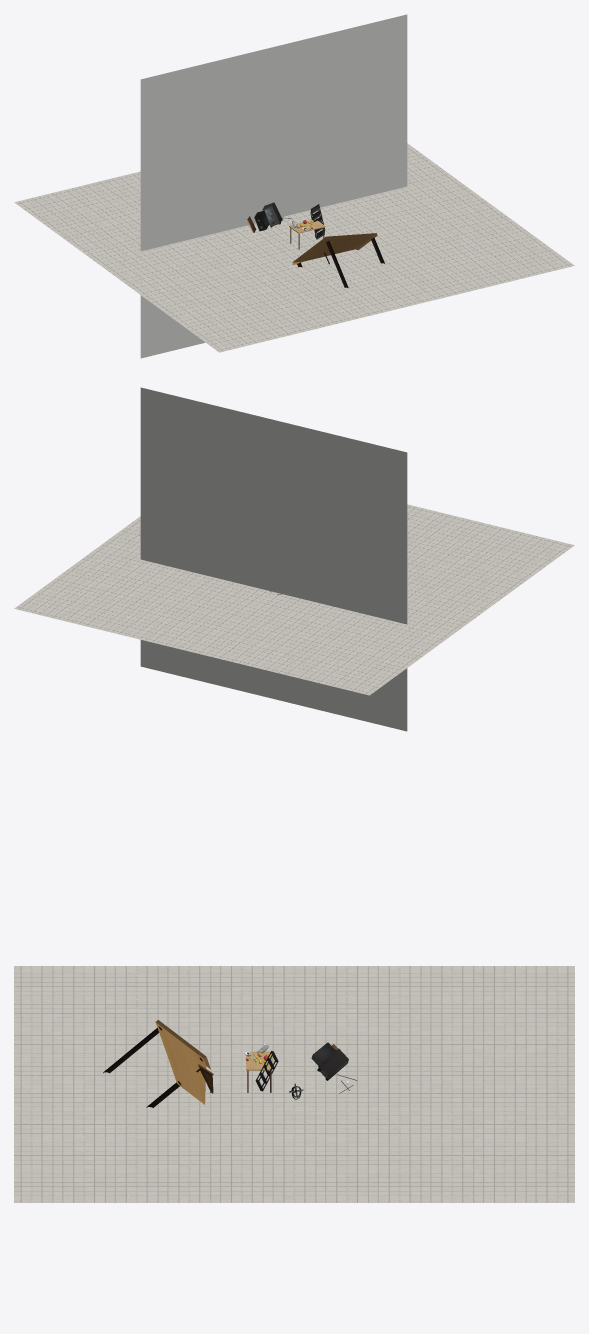
File: viga.glb
3 renders of one model, top to bottom at view 1: azimuth 30°, elevation 25°; view 2: azimuth 150°, elevation 25°; view 3: azimuth 270°, elevation 25°, orthographic. The views are drawn at different scales.
Visible parts, largest first — view 1: ENV_floor, ENV_wall_back, wooden_table_mesh; view 2: ENV_wall_back, ENV_floor; view 3: ENV_floor, wooden_table_mesh.
Part boxes in pixels (x1,y1,x2,y2): ENV_floor: [14, 143, 574, 352]; ENV_wall_back: [140, 14, 407, 358]; wooden_table_mesh: [292, 233, 384, 287]; ENV_wall_back: [140, 387, 407, 731]; ENV_floor: [14, 504, 574, 695]; ENV_floor: [14, 966, 574, 1202]; wooden_table_mesh: [103, 1020, 210, 1107].
Bounding box in the file's own units: 16 × 12 × 16.
30 materials, 11 textured.
